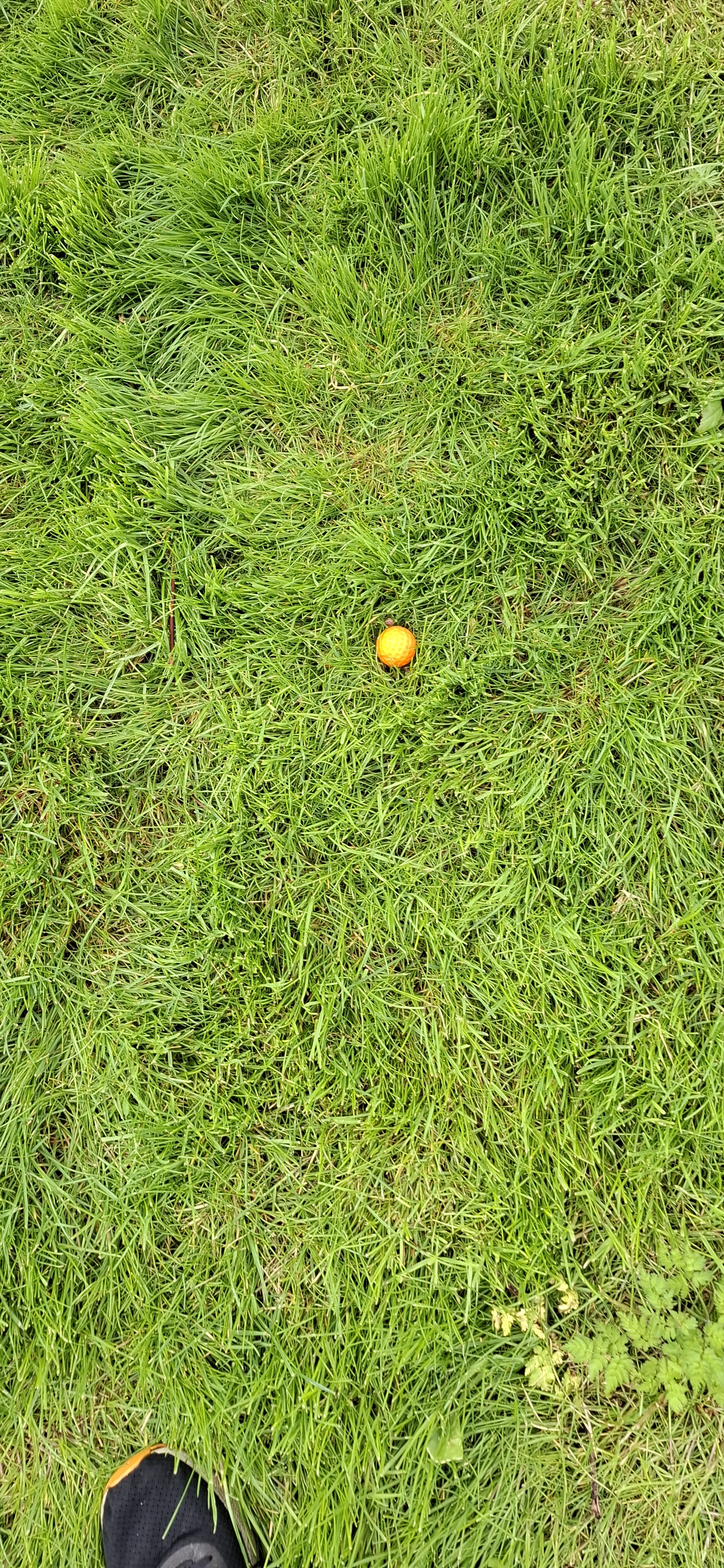ball: (289, 667, 308, 755)
